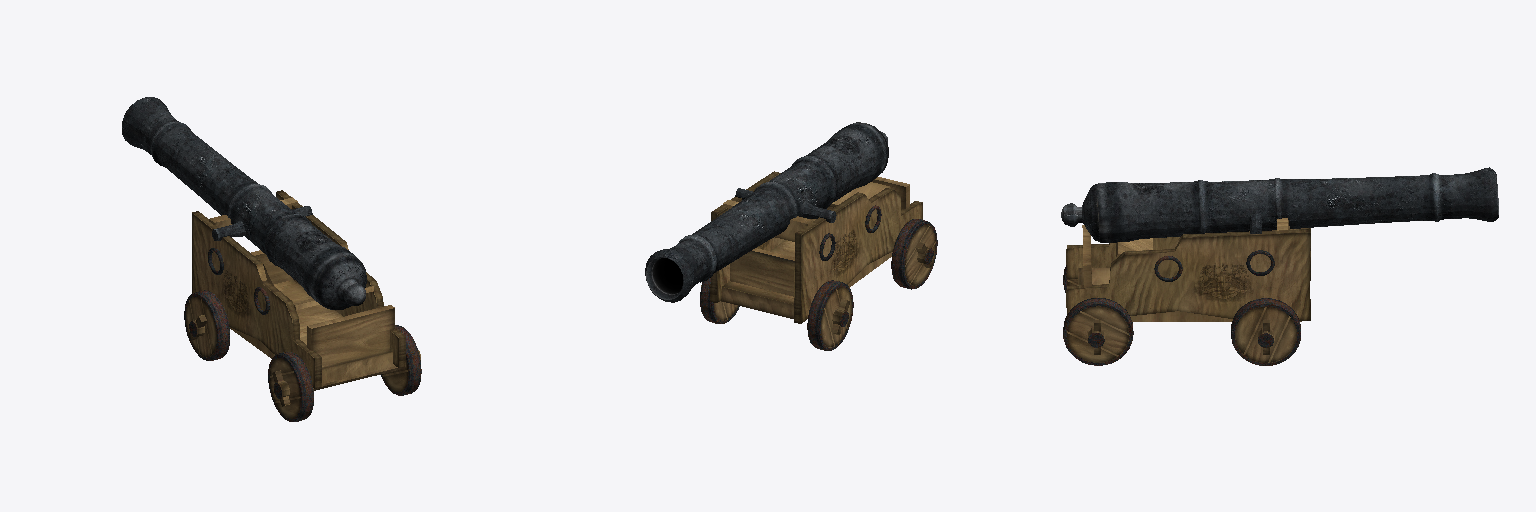
3 views of the same model, side by side, from view 1: azimuth 30°, elevation 25°; view 2: azimuth 150°, elevation 25°; view 3: azimuth 270°, elevation 25° (orthographic).
Parts seen in each view (by area): view 1: Object_APS_cannon_CLN.jpg; view 2: Object_APS_cannon_CLN.jpg; view 3: Object_APS_cannon_CLN.jpg.
Part boxes in pixels (bbox=[...]): Object_APS_cannon_CLN.jpg: bbox=[122, 97, 421, 421]; Object_APS_cannon_CLN.jpg: bbox=[645, 122, 937, 350]; Object_APS_cannon_CLN.jpg: bbox=[1061, 167, 1498, 365].
Bounding box in the file's own units: 0.9198 × 1.05 × 2.5.
2 materials, 1 textured.